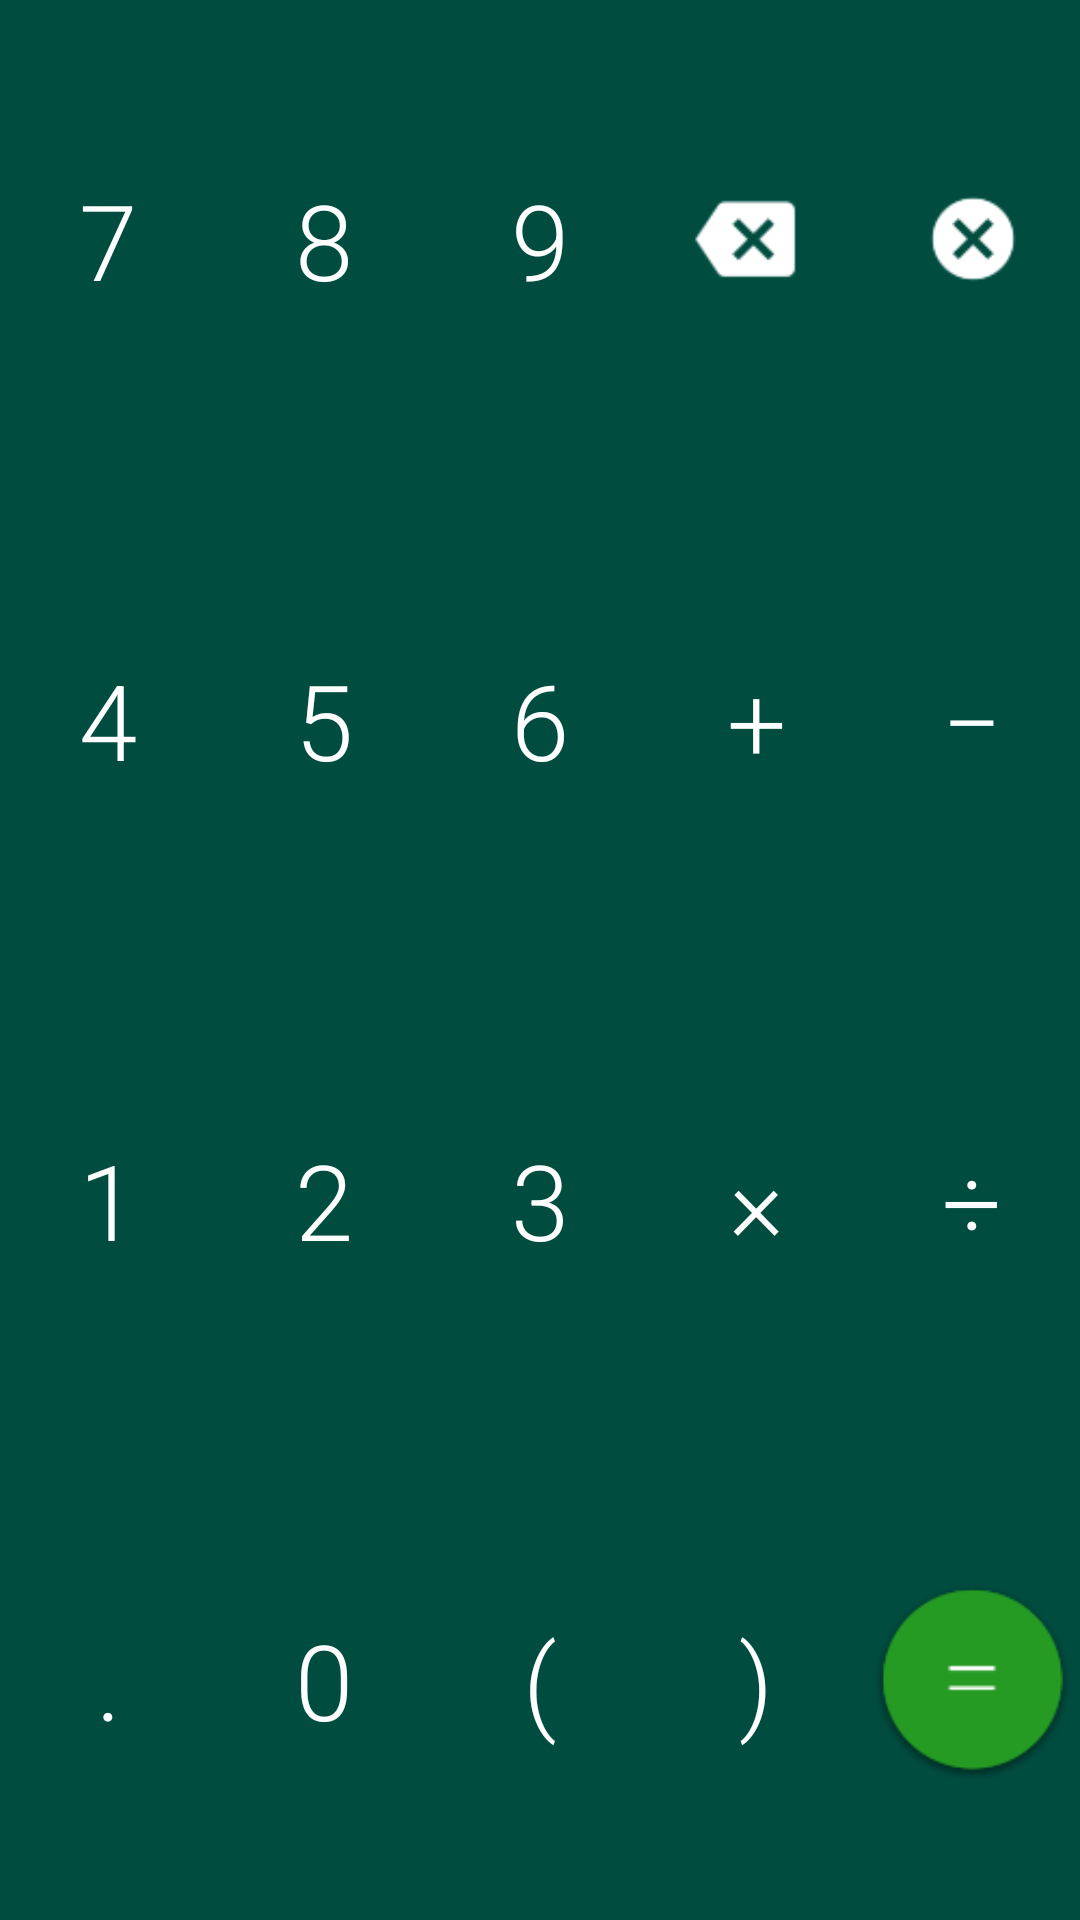

Icon bounding boxes for this 1080px x 1920px phone screenshot, format [x1, y1, x2, y2]:
backspace: [695, 200, 796, 278]
clear: [931, 197, 1015, 281]
